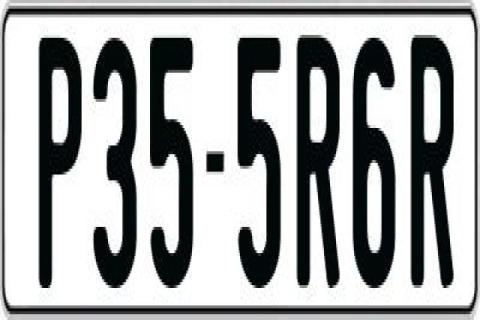0: (236, 38, 286, 302), (90, 29, 134, 297), (352, 35, 396, 297), (150, 35, 194, 285)
P: (39, 29, 83, 285)
R: (407, 32, 458, 300), (293, 32, 339, 302)
